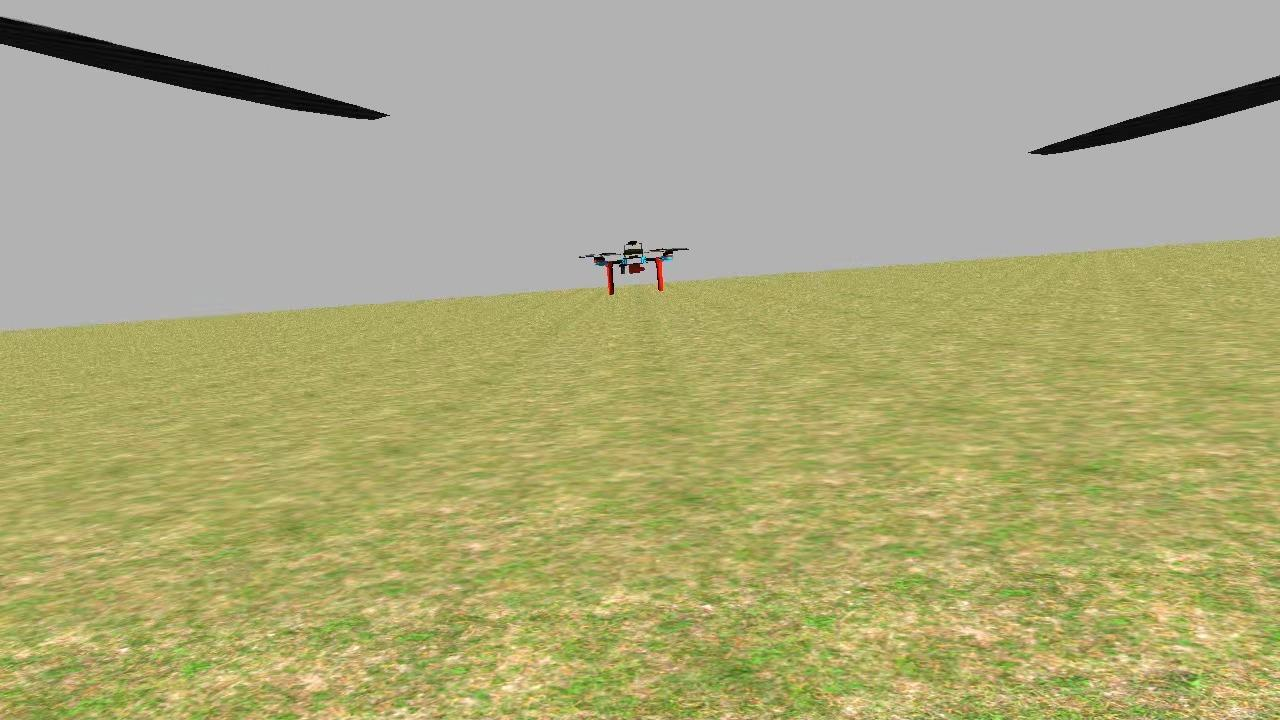UAV: (576, 235, 694, 306)
